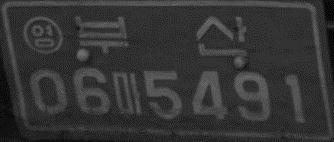0: (28, 66, 68, 116)
1: (277, 72, 311, 124)
4: (191, 68, 228, 121)
5: (143, 69, 182, 120)
6: (70, 66, 111, 116)
9: (233, 70, 271, 123)
마: (112, 70, 143, 115)
부산_D: (74, 13, 248, 58)
영: (22, 15, 63, 55)
